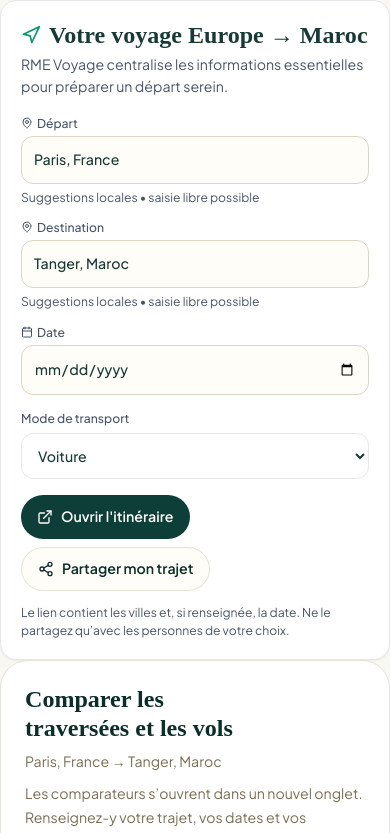
Test case: RouteSearch › shows "Lien copié" (not "Partage effectué") when falling back to clipboard
Click the button "Partager mon trajet" at (116, 569), box top-left (21, 547), bottom-right (210, 591)
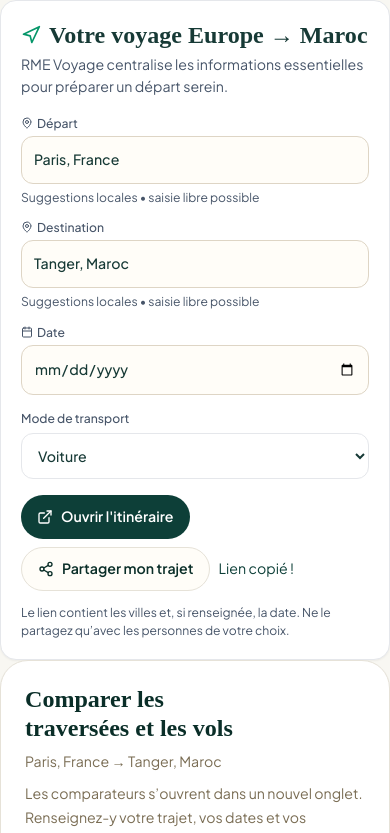
Check: the text "Lien copié !" is shown, box top-left (218, 559), bottom-right (294, 577)
